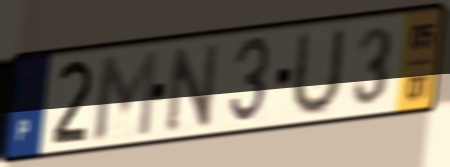2: (50, 58, 94, 146)
3: (225, 32, 273, 130), (350, 23, 396, 109)
M: (92, 46, 162, 143)
N: (164, 39, 222, 137)
U: (287, 23, 349, 122)
